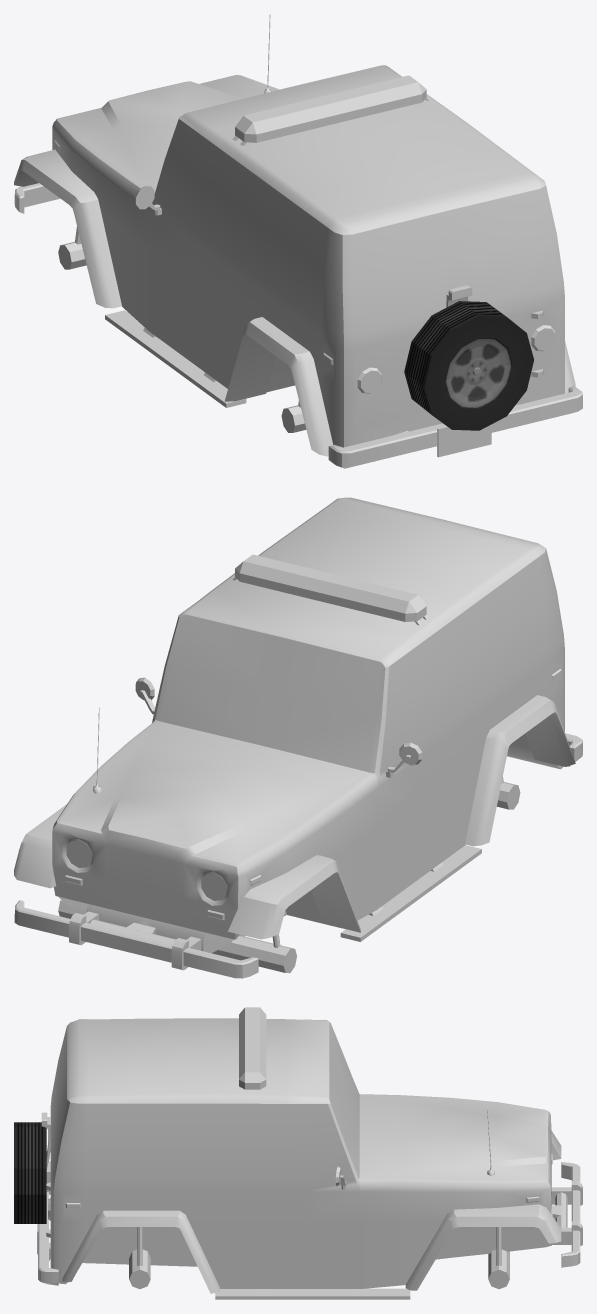
File: RangerHopper.fbx
The picture shows the model from 3 angles, top to bottom: view 1: azimuth 30°, elevation 25°; view 2: azimuth 150°, elevation 25°; view 3: azimuth 270°, elevation 25°; orthographic projection. The views are drawn at different scales.
Visible parts, largest first — view 1: Hopper, SpareWheel; view 2: Hopper; view 3: Hopper, SpareWheel.
Part boxes in pixels (bbox=[...]): Hopper: bbox=[14, 14, 582, 468]; SpareWheel: bbox=[404, 301, 533, 430]; Hopper: bbox=[14, 497, 582, 978]; Hopper: bbox=[37, 1007, 582, 1299]; SpareWheel: bbox=[14, 1122, 46, 1223].
Size of the model in its own units: 2.45 by 2.14 by 5.25.
